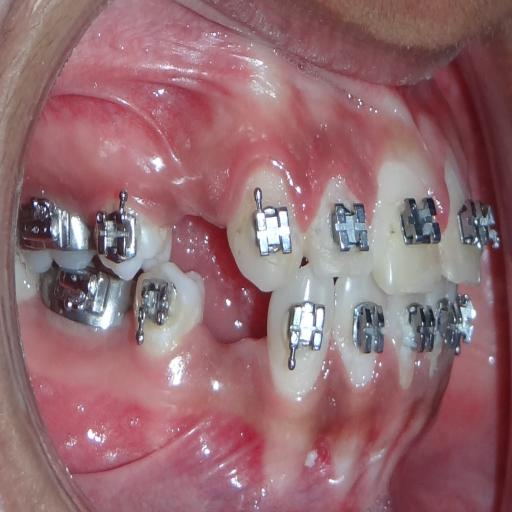correct_brace: (128, 260, 206, 354), (99, 195, 174, 284), (397, 184, 444, 254), (324, 188, 367, 258), (252, 189, 292, 256), (136, 274, 182, 332)
incorrect_brace: (308, 176, 368, 284), (97, 203, 135, 263)
